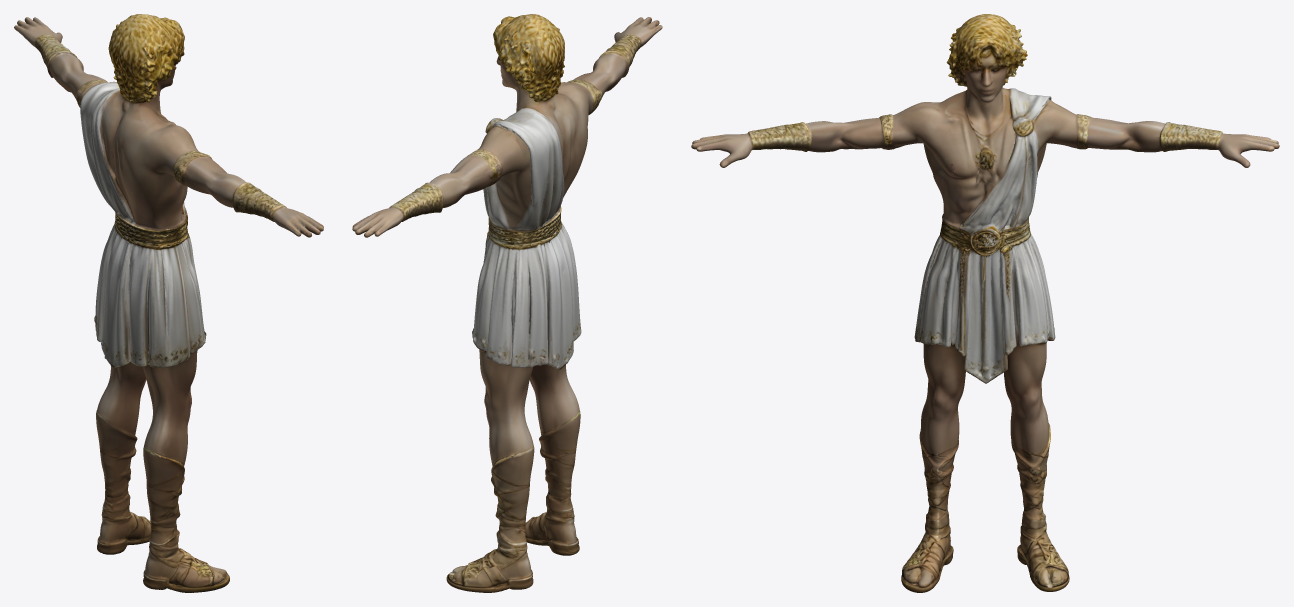
The model's file is raw.glb.
3 views of the same model, side by side, from view 1: azimuth 30°, elevation 25°; view 2: azimuth 150°, elevation 25°; view 3: azimuth 270°, elevation 25° (orthographic).
Parts seen in each view (by area): view 1: tripo_node_cbfffad9-e8b7-4dee-a9ce-34a9f758a61a; view 2: tripo_node_cbfffad9-e8b7-4dee-a9ce-34a9f758a61a; view 3: tripo_node_cbfffad9-e8b7-4dee-a9ce-34a9f758a61a.
Part boxes in pixels (x1,y1,x2,y2): tripo_node_cbfffad9-e8b7-4dee-a9ce-34a9f758a61a: (14,14,323,592); tripo_node_cbfffad9-e8b7-4dee-a9ce-34a9f758a61a: (352,14,662,592); tripo_node_cbfffad9-e8b7-4dee-a9ce-34a9f758a61a: (691,14,1279,592).
Bounding box in the file's own units: 0.1719 × 1 × 0.9629.
1 material, 1 textured.
